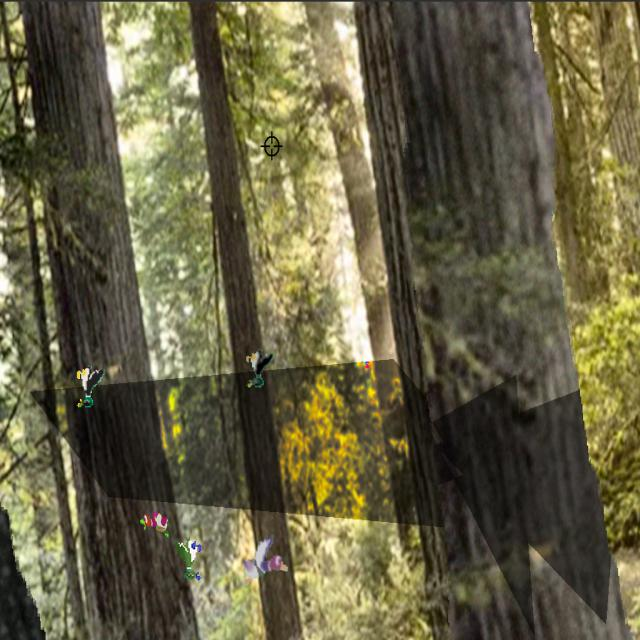duck: (238, 536, 292, 586), (136, 498, 174, 540)
falling_duck: (240, 343, 276, 392), (174, 534, 207, 586), (71, 364, 105, 413)
